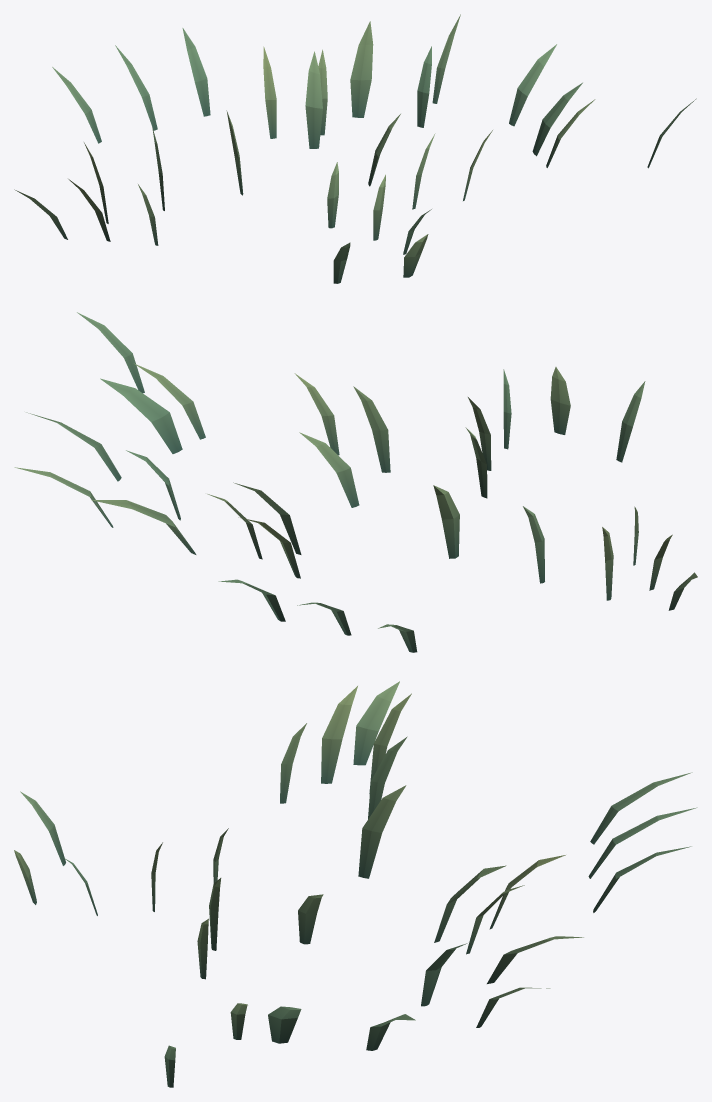
File: meadow-sward-low.glb
3 views of the same model, one above another, from view 1: azimuth 30°, elevation 25°; view 2: azimuth 150°, elevation 25°; view 3: azimuth 270°, elevation 25° (orthographic). The views are drawn at different scales.
Parts seen in each view (by area): view 1: meadow-sward-low; view 2: meadow-sward-low; view 3: meadow-sward-low.
Part boxes in pixels (bbox=[...]): meadow-sward-low: bbox=[14, 14, 696, 283]; meadow-sward-low: bbox=[14, 312, 697, 652]; meadow-sward-low: bbox=[14, 681, 697, 1087].
Size of the model in its own units: 1.68 by 0.1965 by 1.28.
